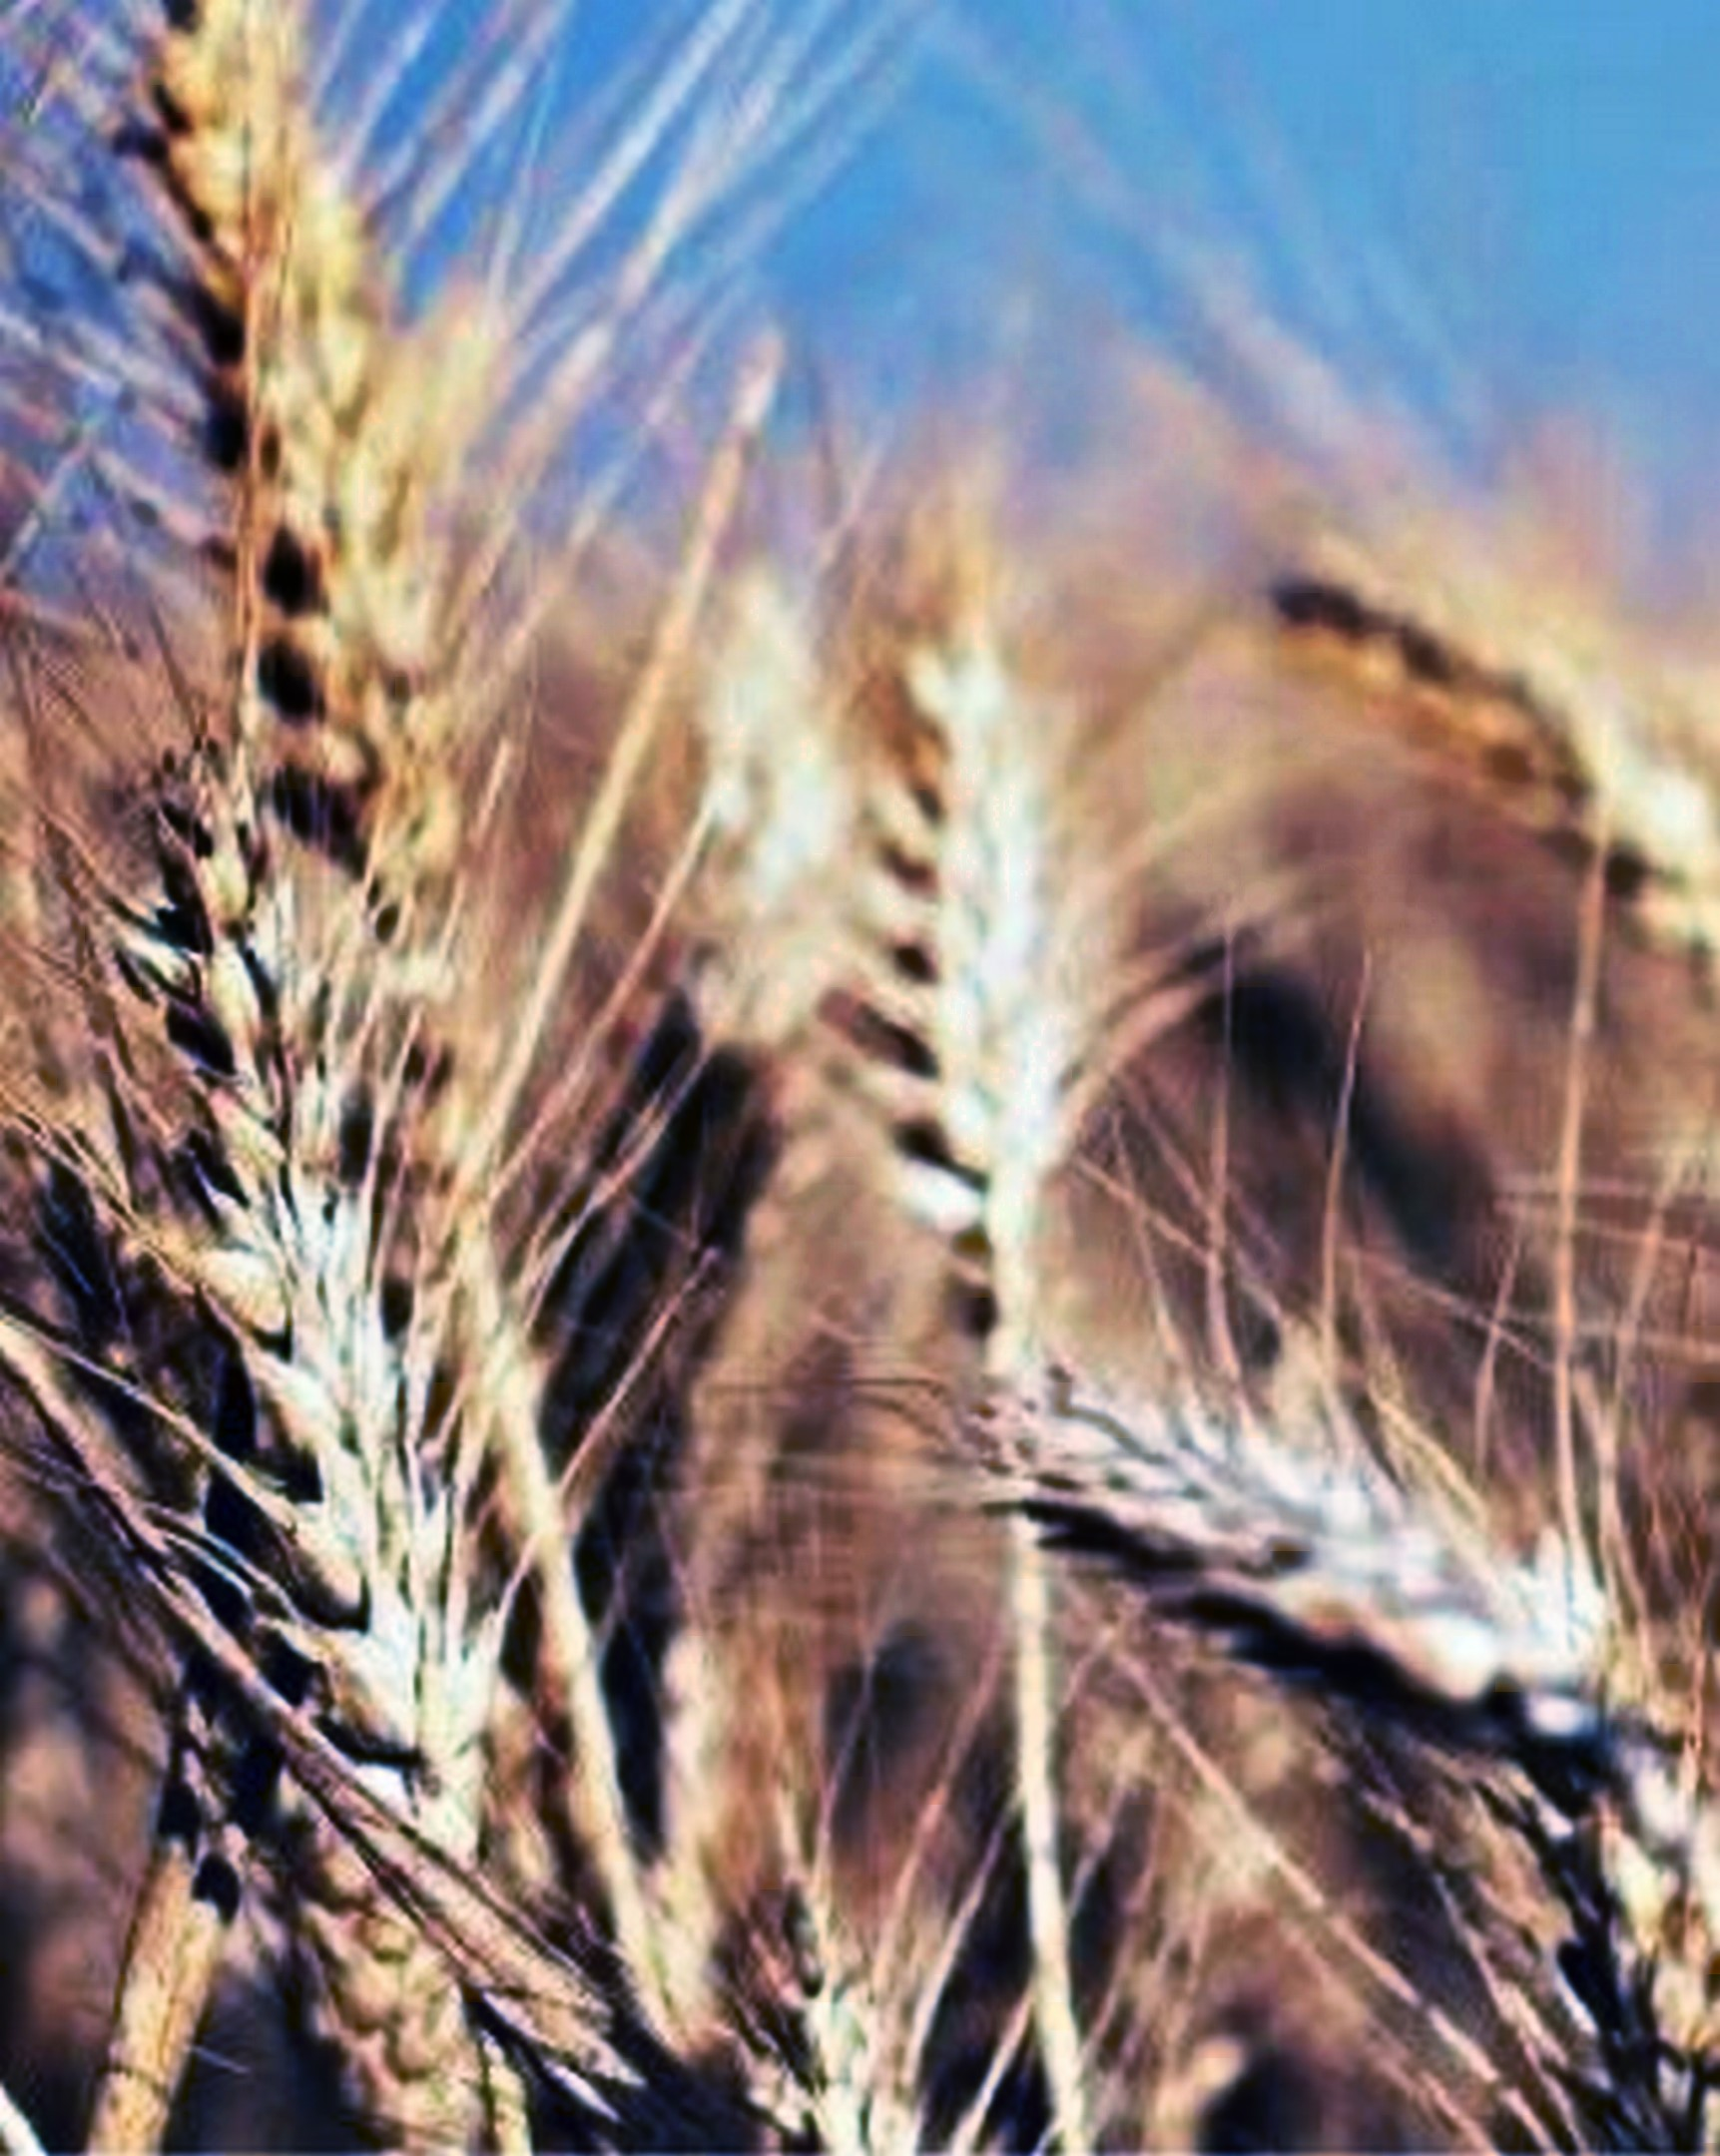Healthy Wheat: (95, 753, 546, 1777)
